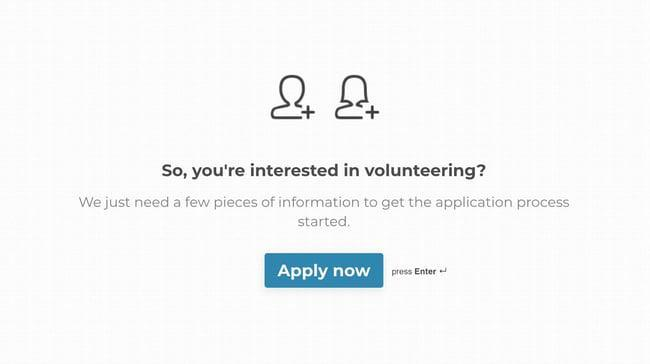button: (266, 253, 384, 290)
